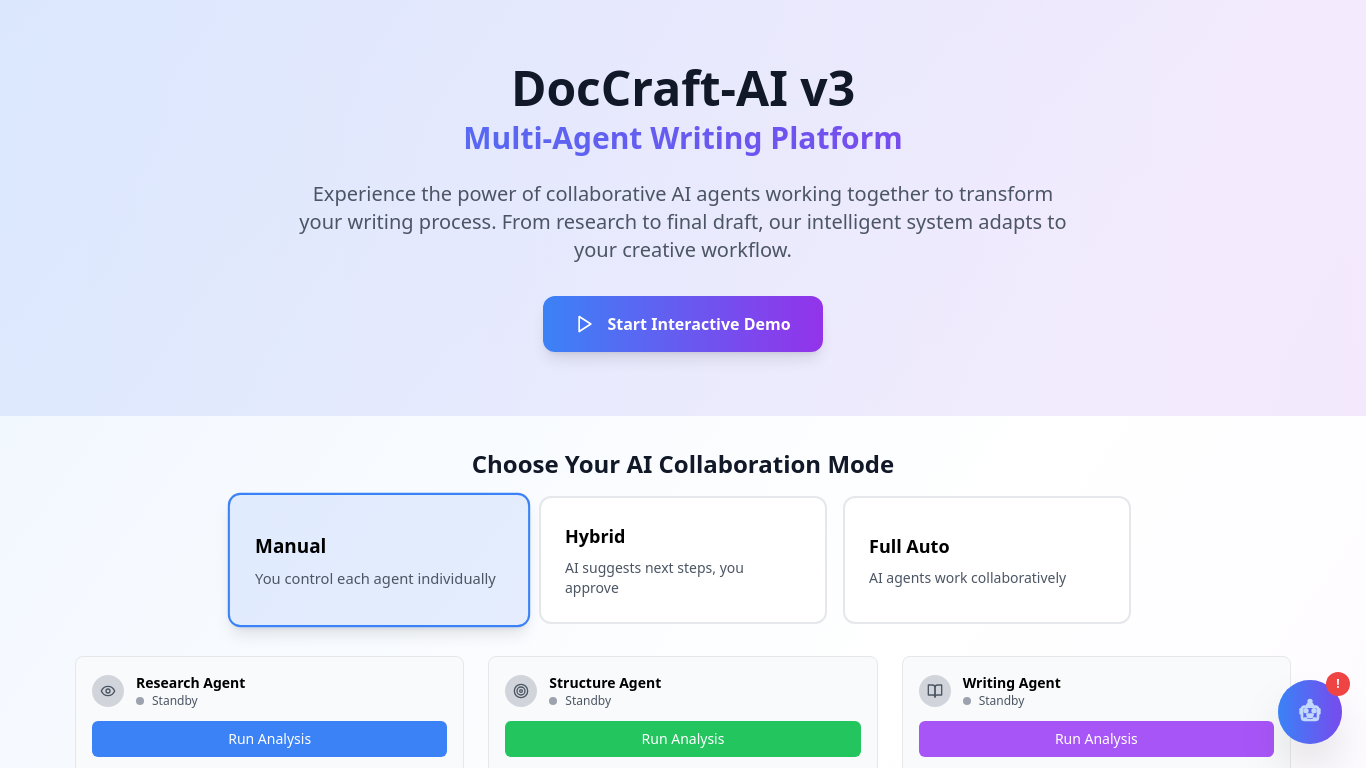
Demo Component › Demo Workflow › progresses through demo steps correctly
Click the button "Start Interactive Demo".
click(683, 324)  # box [543, 296, 823, 352]
Wait 8000 ms
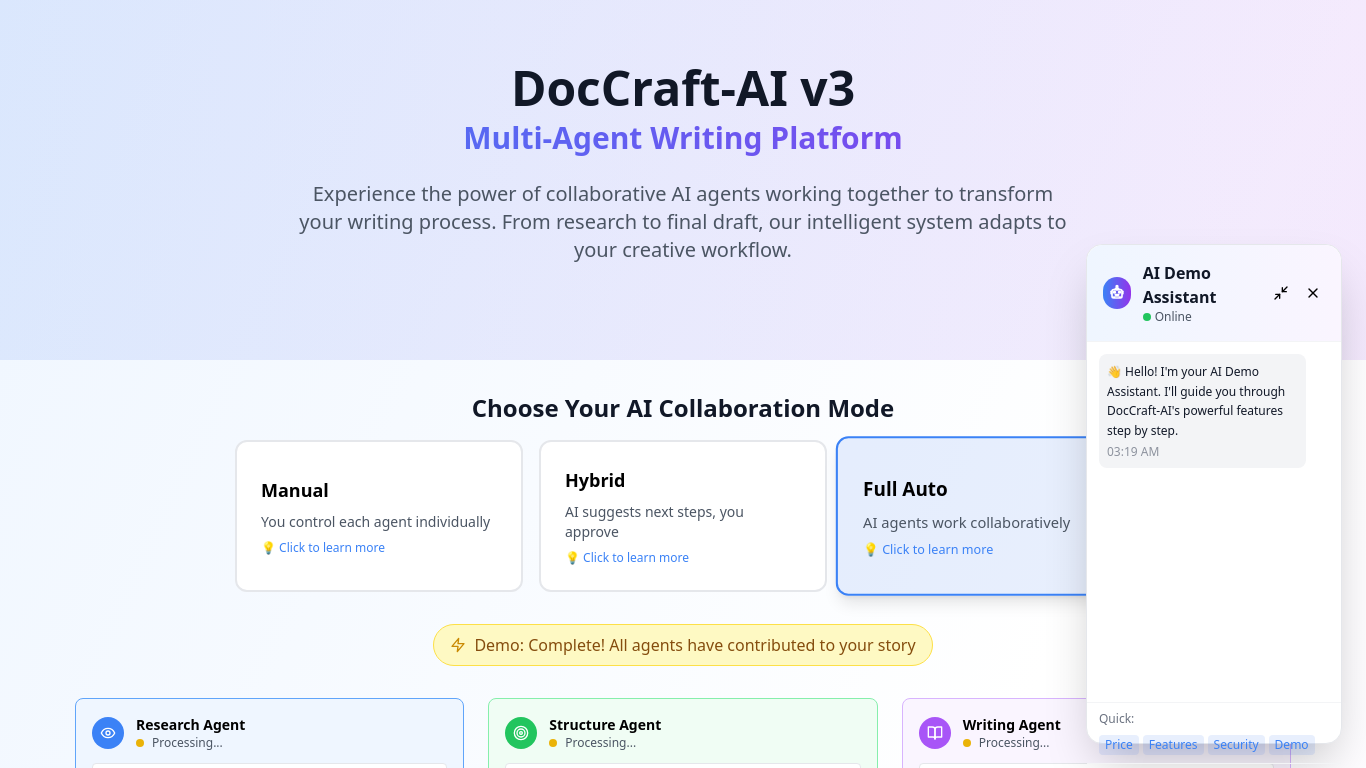
Result: the text "Demo: Complete! All agents have contributed to your story" is shown at [474, 633, 916, 657]
